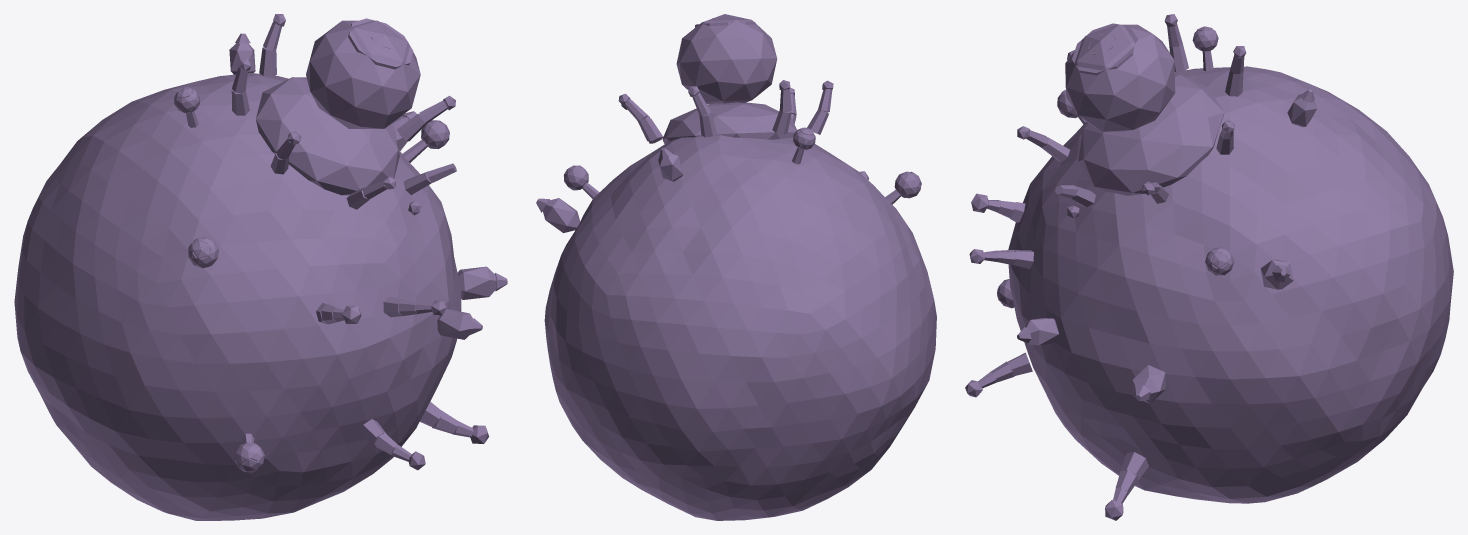
File: Alien_01.fbx
3 views of the same model, side by side, from view 1: azimuth 30°, elevation 25°; view 2: azimuth 150°, elevation 25°; view 3: azimuth 270°, elevation 25° (orthographic). The views are drawn at different scales.
Visible parts, largest first — view 1: Alien_01; view 2: Alien_01; view 3: Alien_01.
Boxes of the visible parts, x1=… form: Alien_01: x1=14, y1=14, x2=507, y2=520; Alien_01: x1=536, y1=14, x2=936, y2=520; Alien_01: x1=965, y1=14, x2=1453, y2=520.
Bounding box in the file's own units: 6.5 × 7.36 × 6.7.
